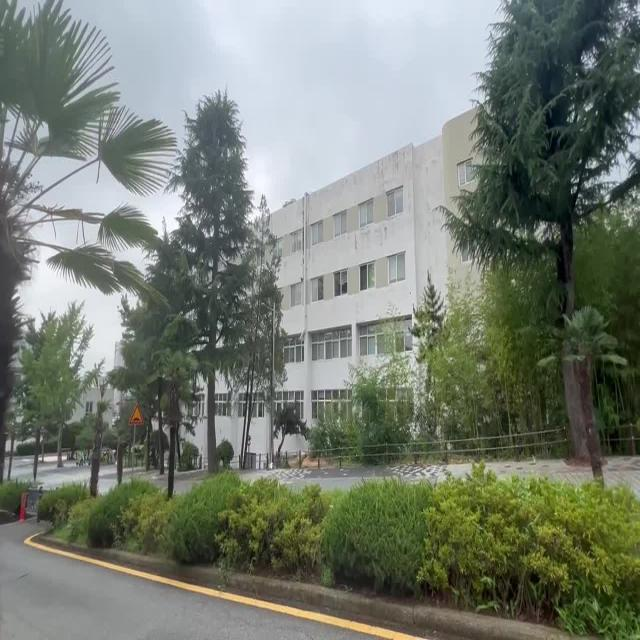building: (282, 139, 412, 359)
